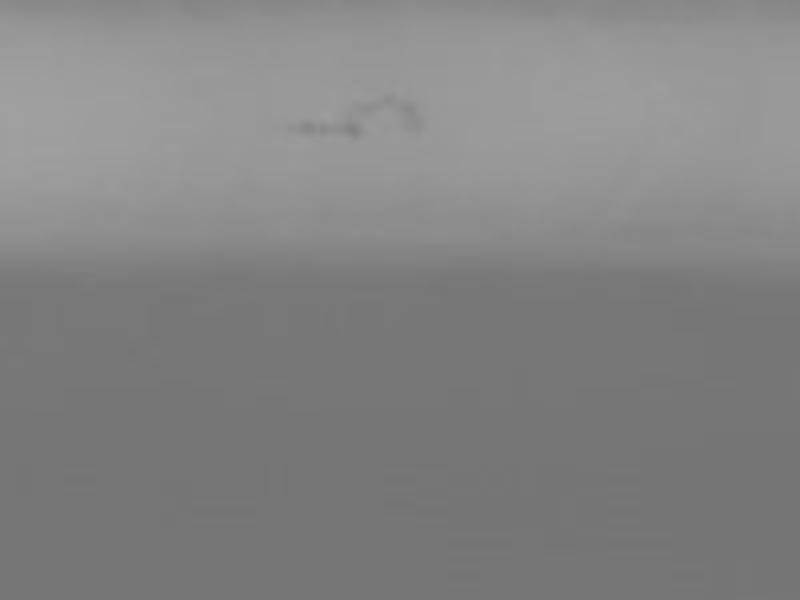defect: (402, 102, 428, 135), (354, 95, 388, 119), (327, 120, 365, 138), (291, 120, 318, 134)
